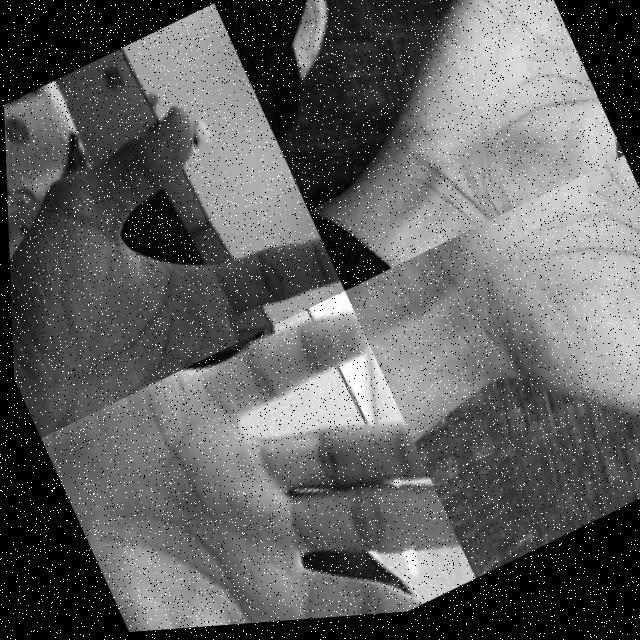hand: (32, 289, 471, 639), (3, 68, 345, 440), (401, 163, 640, 563), (310, 0, 624, 257)
